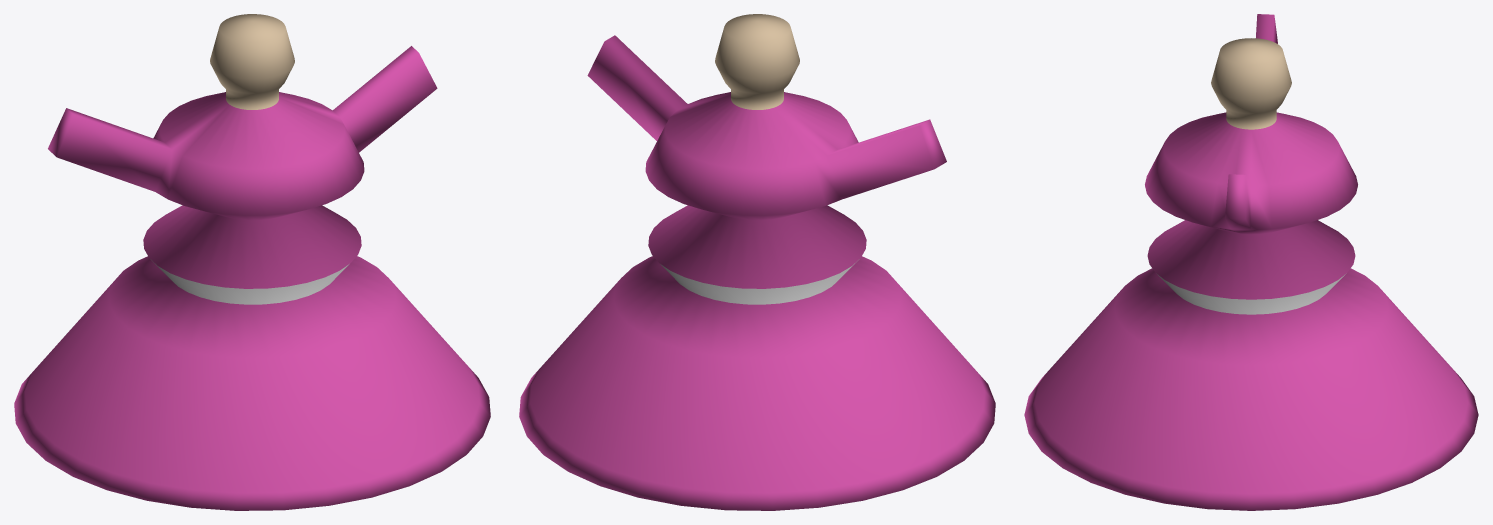
Rendered from princess.fbx.
3 renders of one model, left to right at view 1: azimuth 30°, elevation 25°; view 2: azimuth 150°, elevation 25°; view 3: azimuth 270°, elevation 25°, orthographic. The views are drawn at different scales.
Visible parts, largest first — view 1: Cylinder; view 2: Cylinder; view 3: Cylinder.
Boxes of the visible parts, x1=… form: Cylinder: x1=14, y1=14, x2=490, y2=510; Cylinder: x1=519, y1=14, x2=995, y2=510; Cylinder: x1=1024, y1=14, x2=1478, y2=510.
Bounding box in the file's own units: 200 × 180 × 200.
